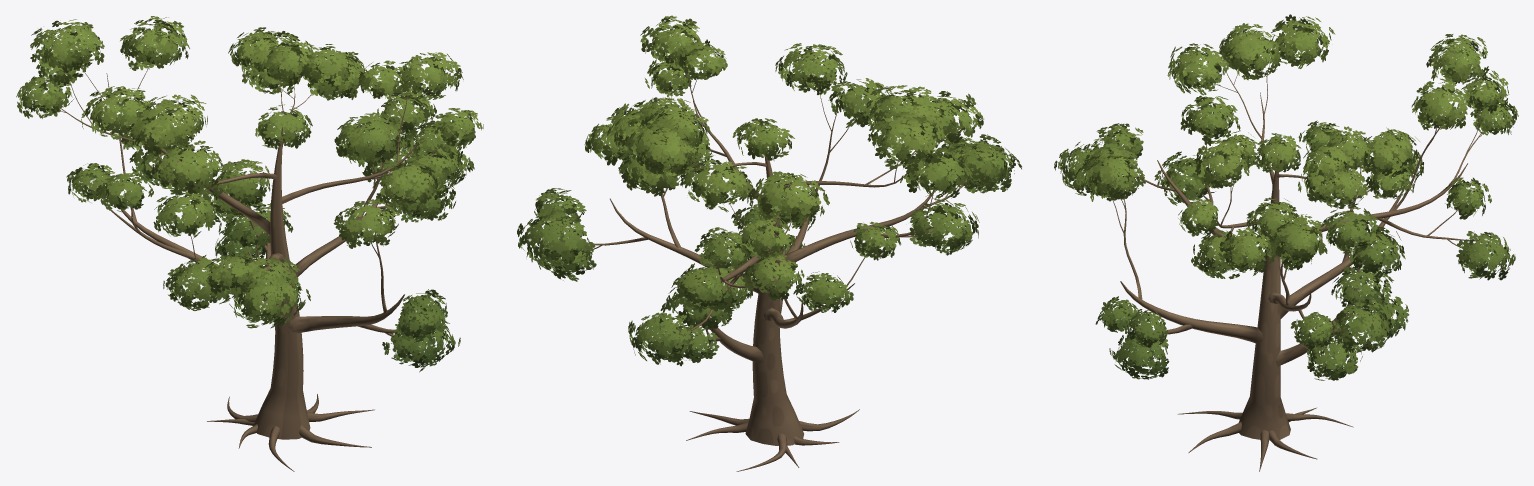
Rendered from tree.gltf.
The picture shows the model from 3 angles, left to right: view 1: azimuth 30°, elevation 25°; view 2: azimuth 150°, elevation 25°; view 3: azimuth 270°, elevation 25°; orthographic projection. The views are drawn at different scales.
Parts seen in each view (by area): view 1: Tree_LOD0; view 2: Tree_LOD0; view 3: Tree_LOD0.
Part boxes in pixels (x1,y1,x2,y2): Tree_LOD0: (16, 16, 483, 471); Tree_LOD0: (517, 15, 1021, 471); Tree_LOD0: (1054, 14, 1518, 471).
Size of the model in its own units: 28.52 by 25 by 30.34.
2 materials, 2 textured.
